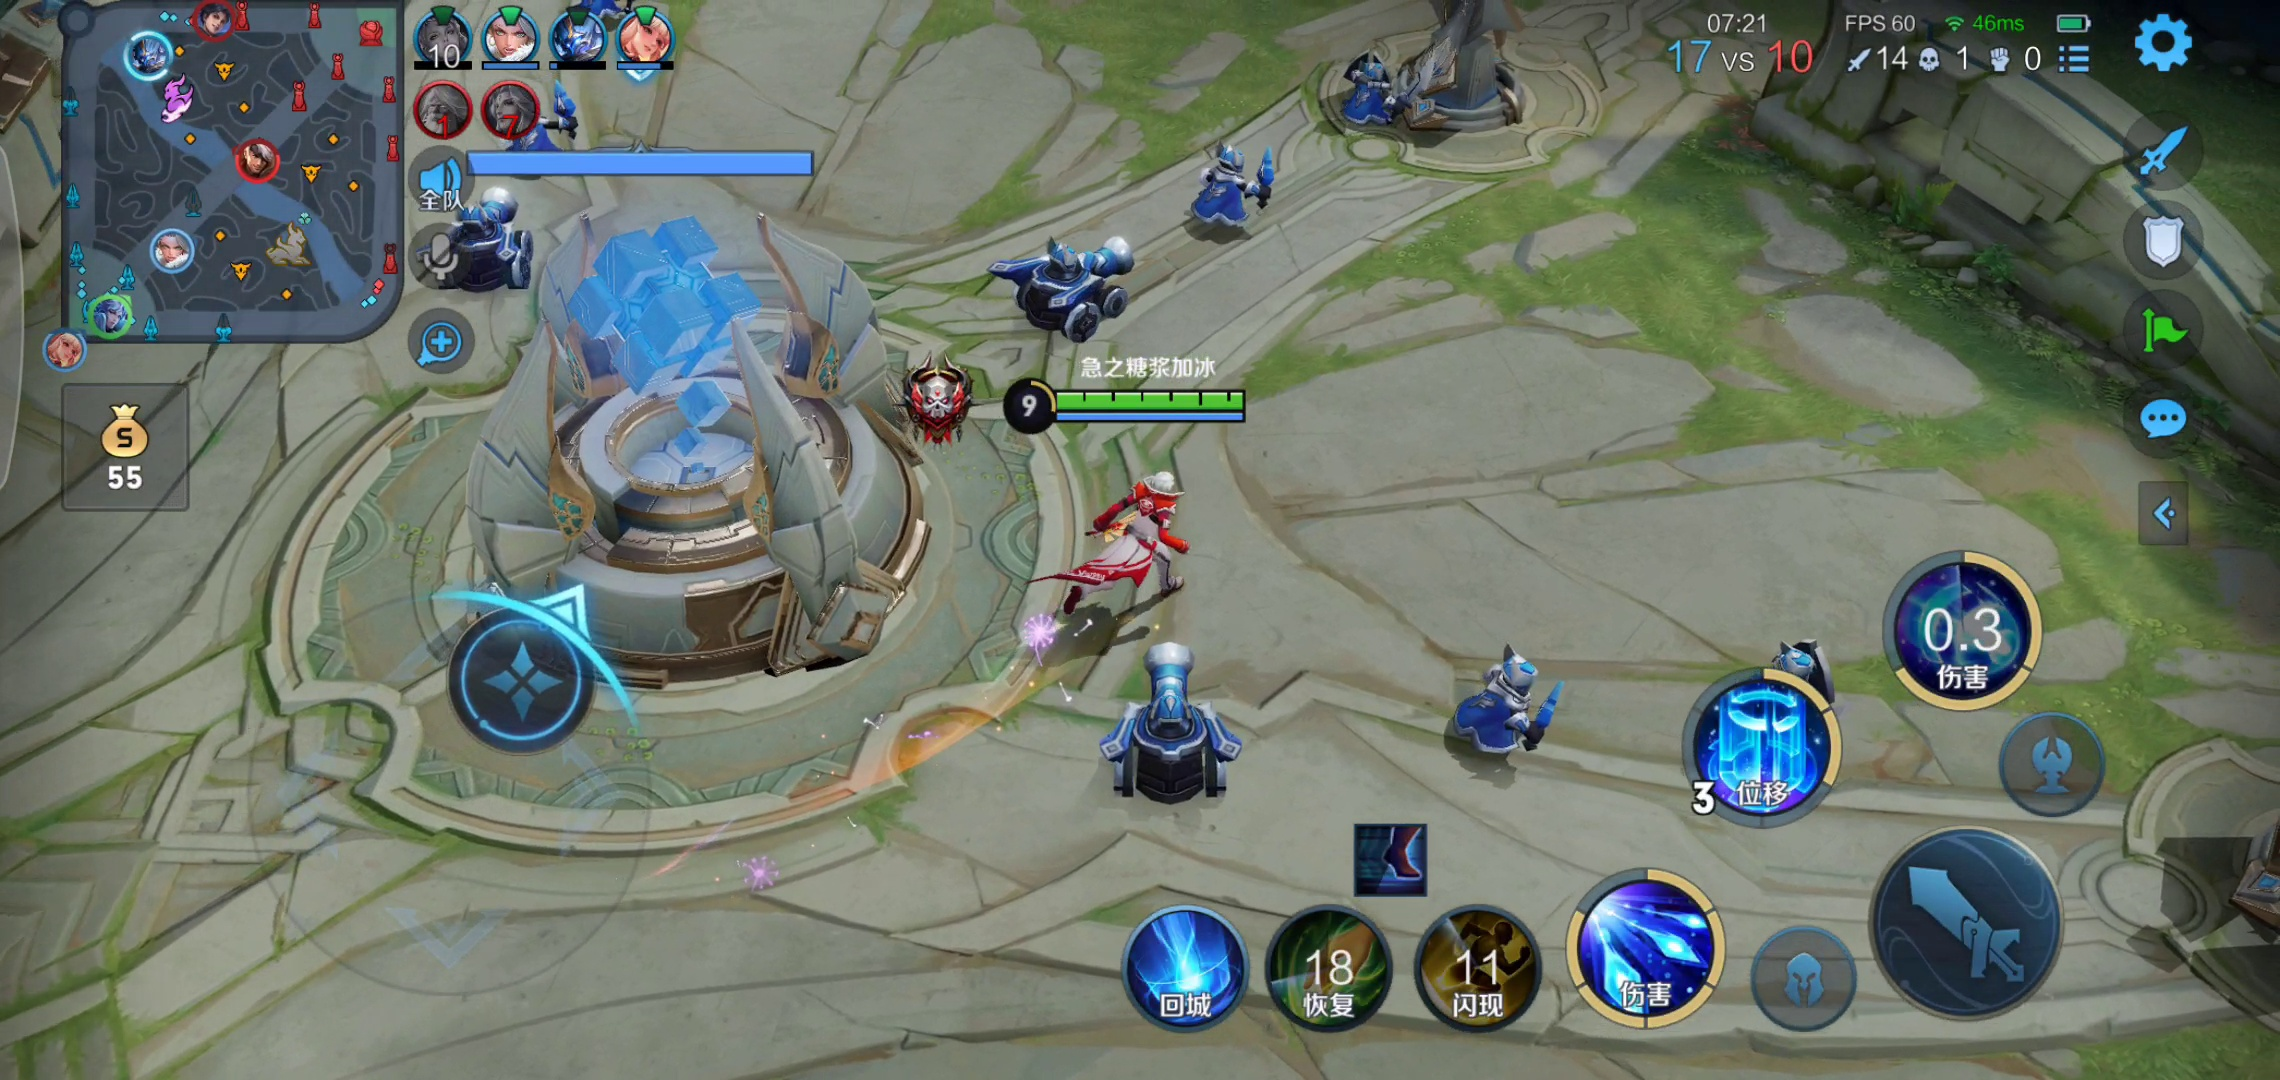crystal: (461, 238, 939, 702)
hero: (1054, 458, 1203, 613)
soldier: (1075, 648, 1265, 808), (989, 221, 1153, 346), (1456, 638, 1565, 773), (1165, 140, 1304, 240), (423, 192, 535, 283), (1322, 47, 1406, 151), (489, 84, 580, 169)
tower: (1396, 1, 1563, 137)
